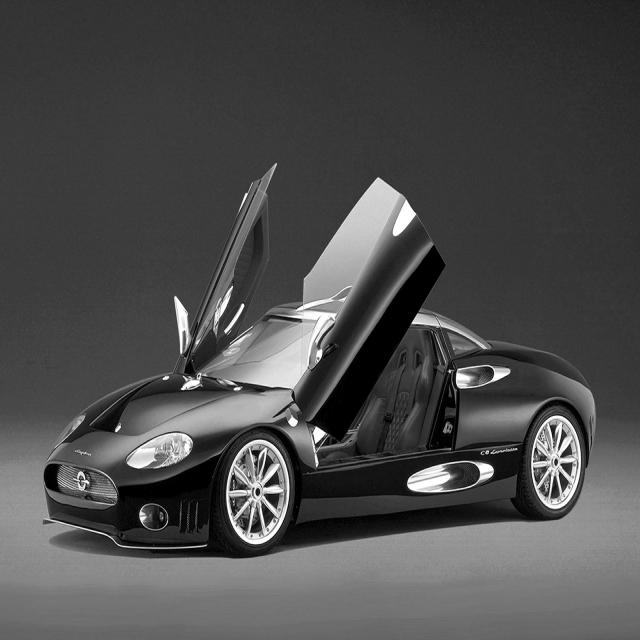car: (41, 162, 596, 556)
